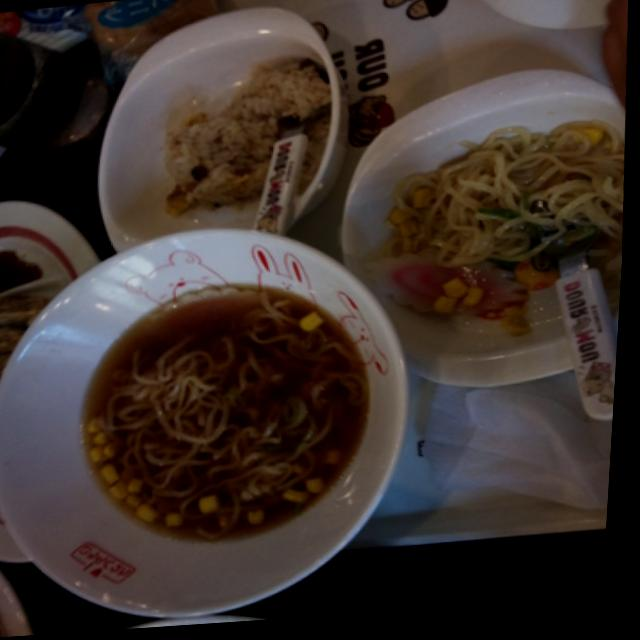米饭主食: (94, 0, 362, 267)
面条主食: (0, 212, 449, 635)
